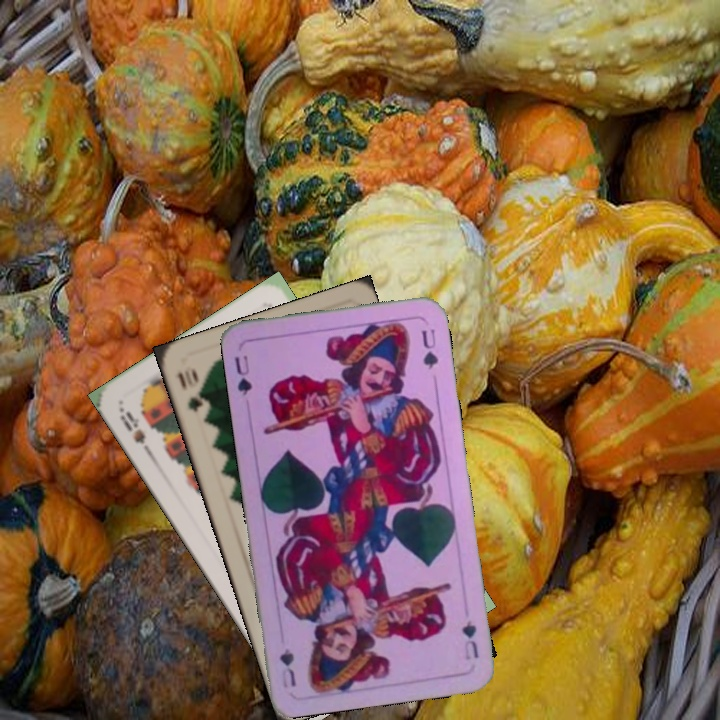G10: (173, 365, 207, 415)
GU: (231, 351, 255, 398), (458, 616, 481, 662)
S8: (115, 403, 154, 455)
